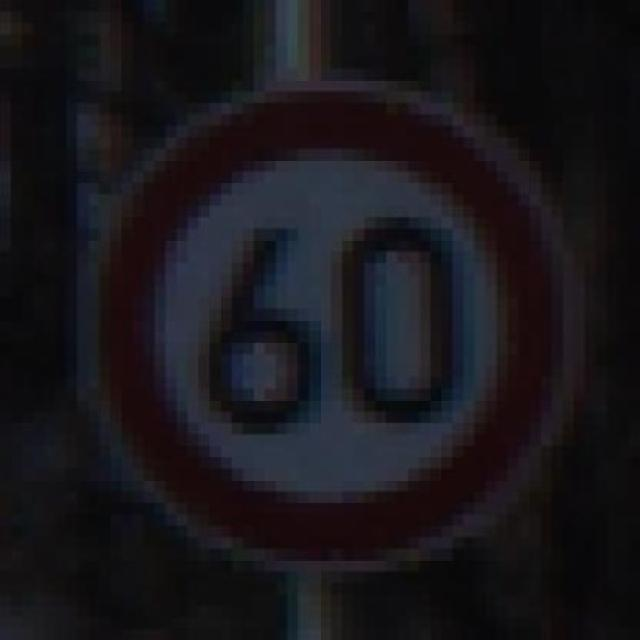forb_speed_over_60: (102, 83, 555, 566)
